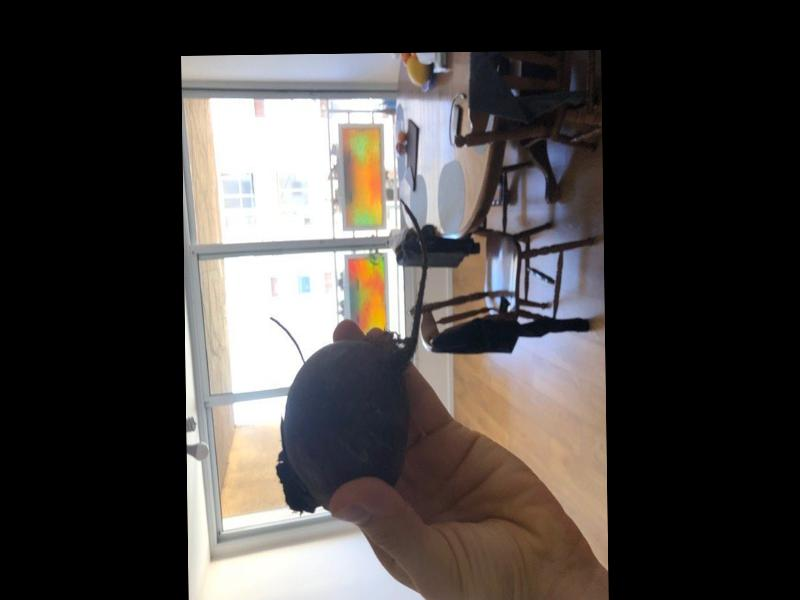Beet: (270, 198, 429, 512)
